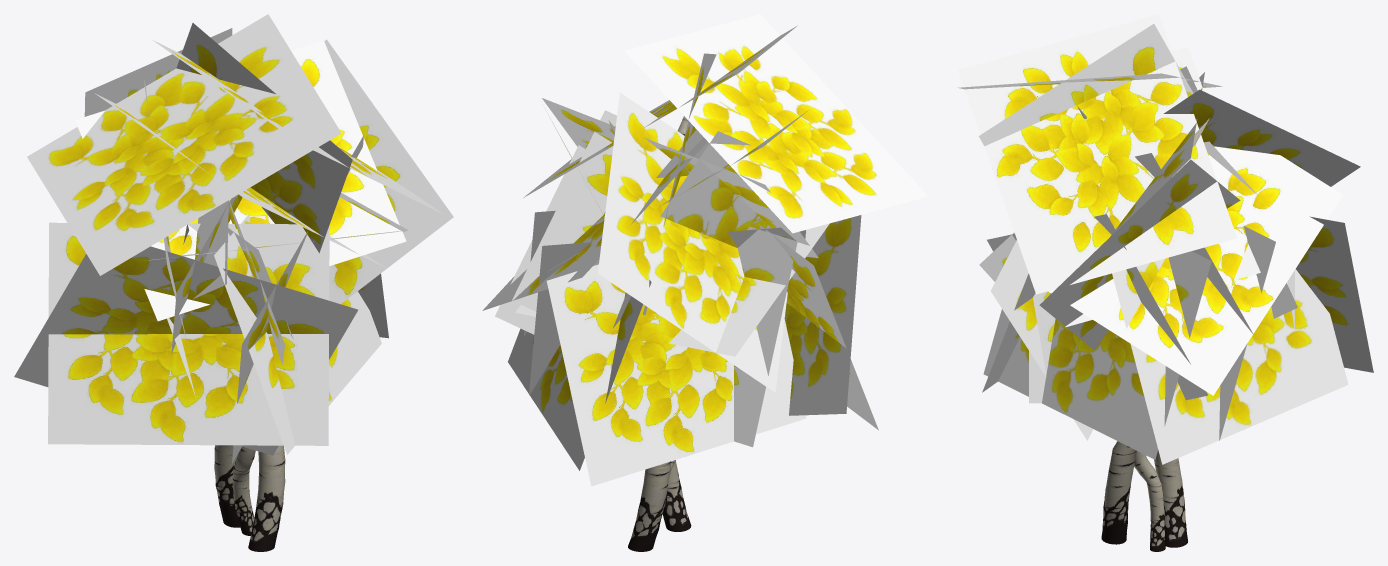
Rendered from Tree4.fbx.
3 renders of one model, left to right at view 1: azimuth 30°, elevation 25°; view 2: azimuth 150°, elevation 25°; view 3: azimuth 270°, elevation 25°, orthographic. The views are drawn at different scales.
Visible parts, largest first — view 1: Cylinder053; view 2: Cylinder053; view 3: Cylinder053.
Part boxes in pixels (left/top/right/bottom): Cylinder053: left=14, top=14, right=453, bottom=551; Cylinder053: left=482, top=14, right=928, bottom=551; Cylinder053: left=957, top=14, right=1373, bottom=551.
Bounding box in the file's own units: 129 × 178 × 135.
2 materials, 2 textured.
